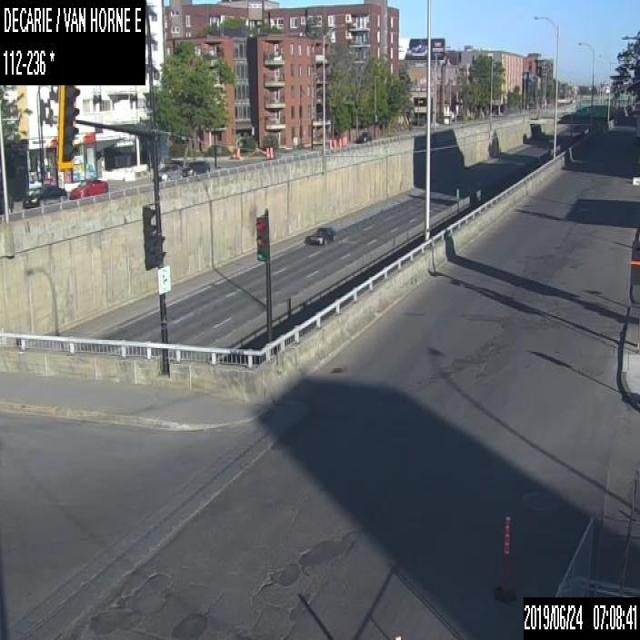construction: (493, 510, 520, 602), (269, 145, 273, 158), (236, 146, 240, 158), (342, 136, 346, 146), (332, 138, 336, 148), (231, 146, 234, 158), (328, 138, 331, 148), (266, 146, 268, 158), (338, 136, 340, 147)
vehicle: (23, 182, 66, 212), (68, 178, 108, 198), (180, 158, 209, 176), (153, 163, 182, 180), (310, 227, 334, 244), (354, 131, 371, 141)
